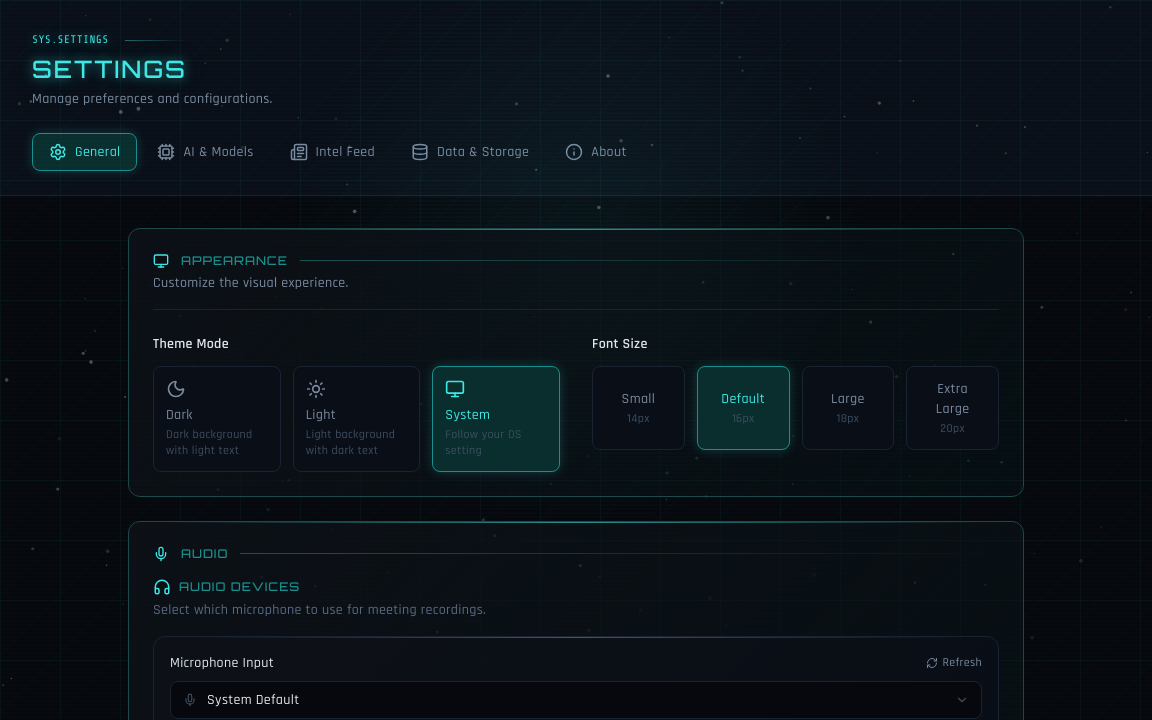
SettingsPageModern › multiple tabs exist and can be clicked
This screenshot has width=1152, height=720.
Click the button "AI & Models": (206, 152) [142, 134, 270, 170]
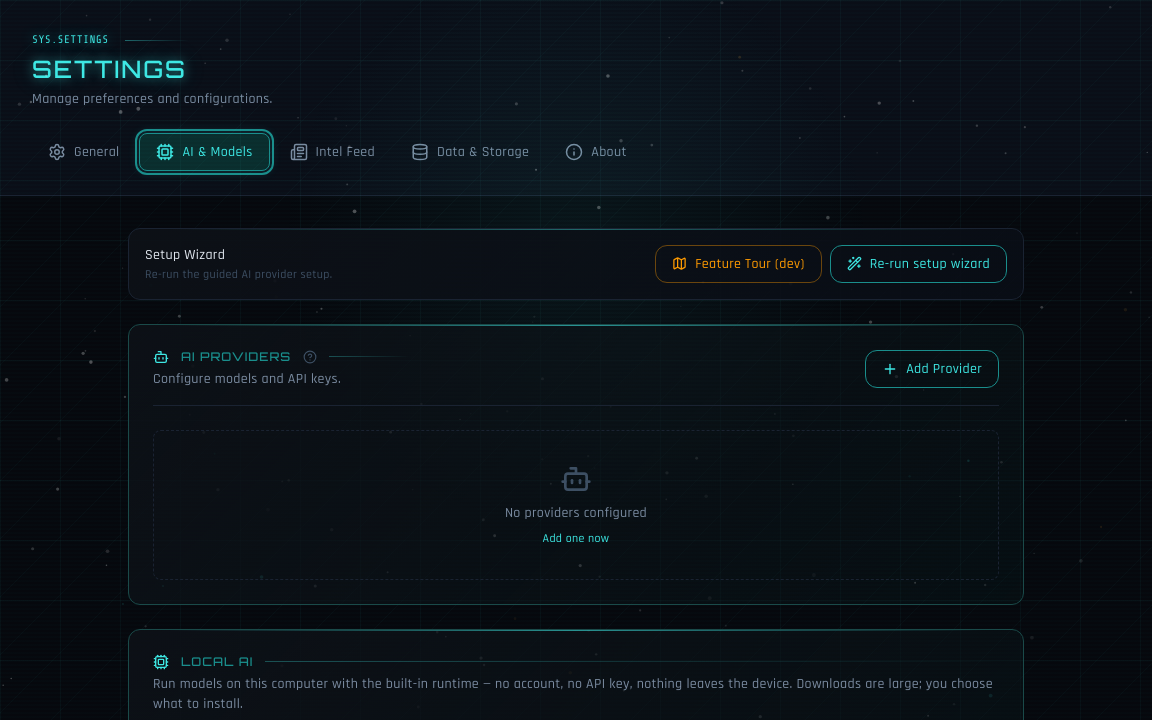
Now the text "AI Providers" is shown, box [181, 348, 291, 364]
